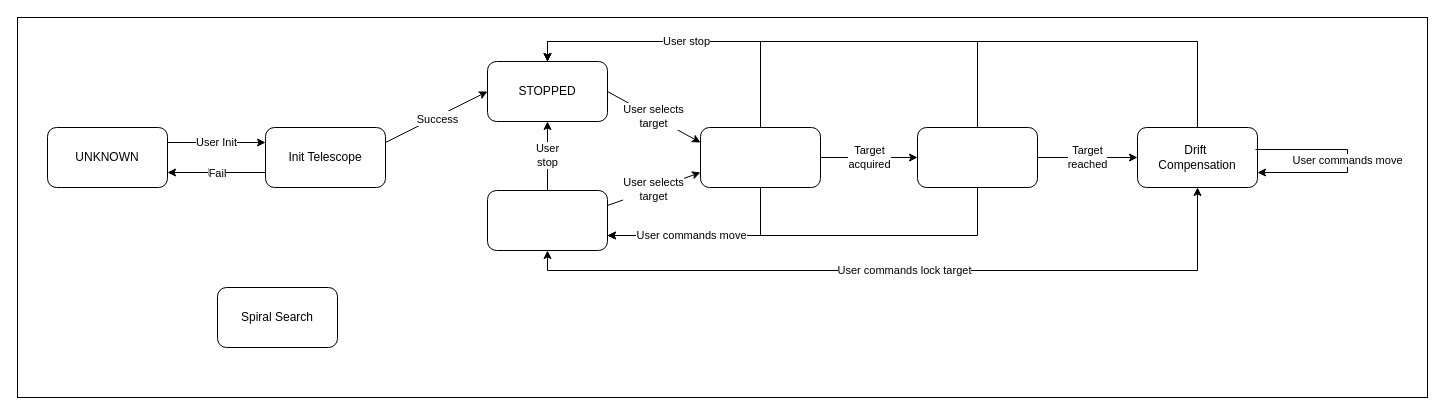
This 1445x415 diagram has some shape labels left out. The shapes that lost their labels are listed below. From the top down, each one's box as (x1, y1, x2, y2) in pixels, then its label:
(700, 126, 820, 188): Target Acquisition MOVE
(916, 126, 1038, 188): Target Acquisition REFINEMENT
(486, 190, 608, 250): Tracking
